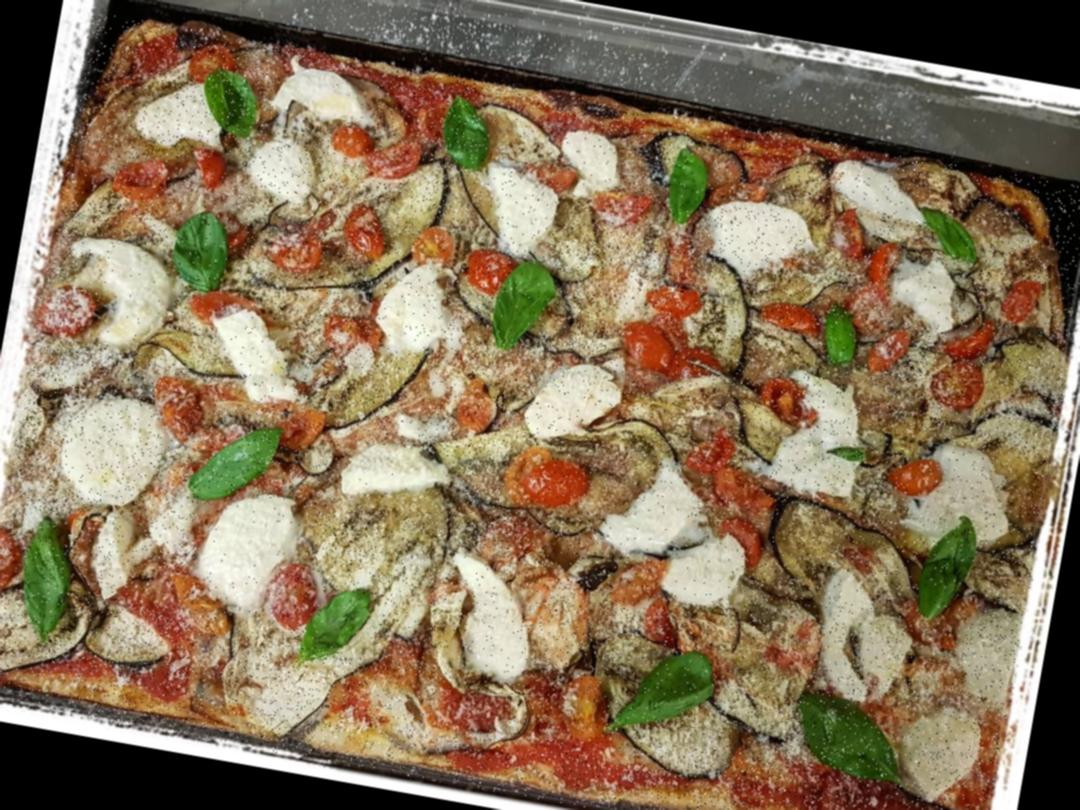Basil: (793, 692, 938, 800), (897, 500, 999, 636), (609, 640, 726, 747), (4, 506, 90, 642), (184, 418, 290, 506), (168, 195, 250, 305), (190, 62, 274, 152), (434, 84, 512, 178), (488, 258, 564, 348), (657, 143, 718, 234), (304, 586, 381, 658), (923, 212, 994, 260), (815, 314, 868, 372)
Cheese: (43, 387, 192, 514), (458, 102, 572, 253), (186, 489, 316, 614), (769, 363, 884, 503), (902, 440, 1029, 555), (440, 554, 546, 686), (72, 235, 182, 356), (799, 564, 898, 682), (521, 348, 632, 450), (698, 194, 823, 284), (599, 461, 699, 567), (824, 158, 938, 249), (208, 302, 308, 405), (367, 258, 468, 356), (658, 517, 758, 610), (338, 439, 450, 515), (272, 64, 380, 138), (132, 78, 230, 149), (86, 503, 154, 596), (884, 252, 964, 330), (244, 138, 322, 203), (554, 130, 624, 202), (142, 483, 204, 550)
Pizza: (0, 11, 1080, 810)
Tomatoes: (499, 440, 611, 522), (130, 558, 238, 631), (262, 563, 328, 633), (42, 278, 106, 344), (270, 403, 338, 464), (714, 508, 772, 578), (552, 672, 608, 744), (267, 214, 331, 276), (154, 376, 215, 441), (617, 316, 678, 378), (340, 197, 397, 262), (432, 685, 512, 731), (113, 150, 184, 198), (710, 457, 774, 510), (766, 622, 828, 676), (411, 223, 466, 282), (186, 285, 254, 332), (685, 414, 737, 475), (861, 233, 908, 300), (749, 299, 822, 342), (931, 356, 989, 410), (371, 136, 425, 192), (823, 201, 876, 256), (642, 277, 700, 327), (1003, 278, 1052, 334), (887, 456, 943, 505), (317, 314, 370, 364), (864, 323, 912, 375), (606, 561, 661, 606), (184, 148, 236, 194), (454, 374, 494, 428), (330, 121, 375, 164), (672, 340, 719, 378), (946, 320, 993, 358), (469, 250, 511, 288), (0, 528, 22, 598), (643, 594, 677, 634)
